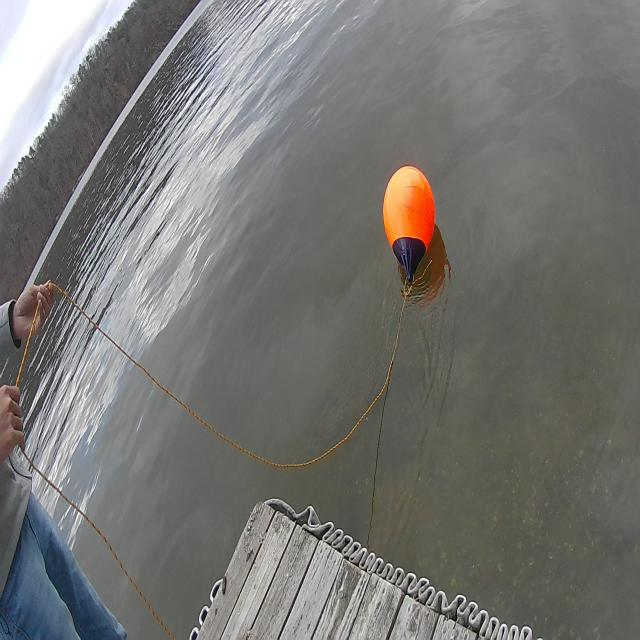Buoy: (379, 150, 440, 292)
